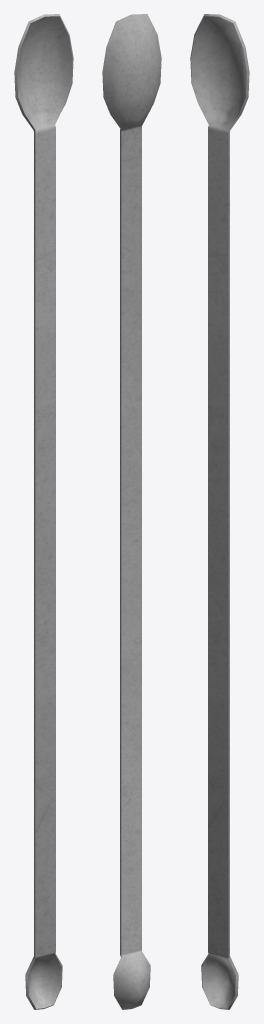
The model's file is 4取样勺.glb.
3 renders of one model, left to right at view 1: azimuth 30°, elevation 25°; view 2: azimuth 210°, elevation 25°; view 3: azimuth 330°, elevation 25°, orthographic.
Visible parts, largest first — view 1: 取样勺; view 2: 取样勺; view 3: 取样勺.
Boxes of the visible parts, x1,y1,x2,y2 form: 取样勺: (14, 14, 73, 1009); 取样勺: (102, 14, 161, 1009); 取样勺: (190, 14, 249, 1009).
Size of the model in its own units: 0.0134 by 0.2154 by 0.00432.
1 material, 1 textured.
